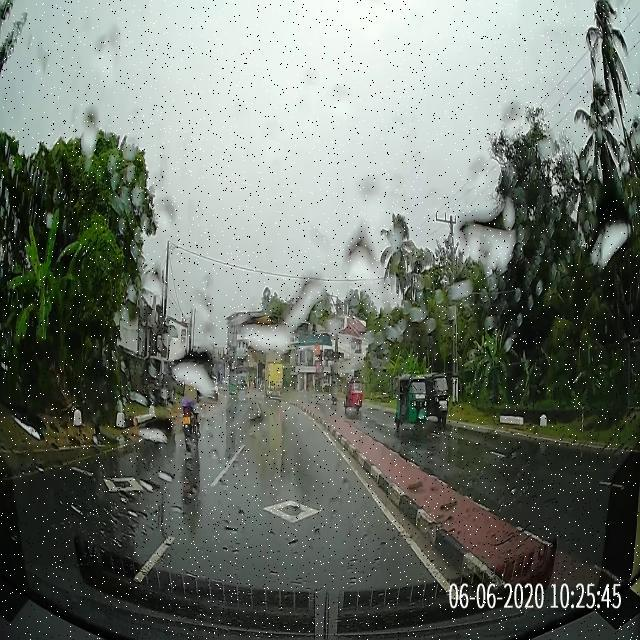diamond: (183, 497, 401, 525)
